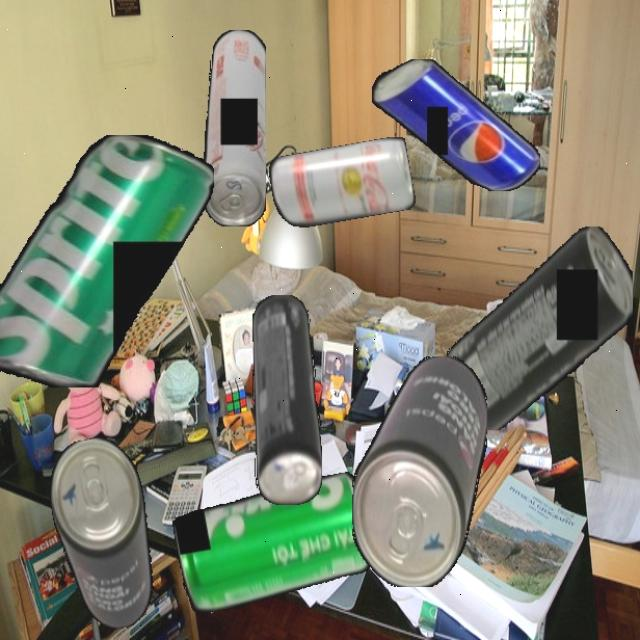debris: (0, 135, 214, 388), (446, 226, 632, 430), (351, 355, 487, 587), (169, 471, 376, 615), (42, 432, 165, 636), (371, 59, 540, 191), (252, 294, 322, 505), (267, 135, 417, 232), (203, 29, 266, 227)
